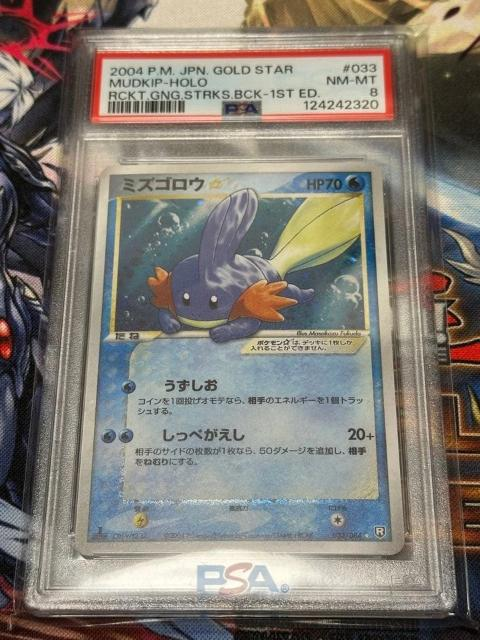Card: (71, 157, 412, 563)
Name: (117, 172, 227, 196)
